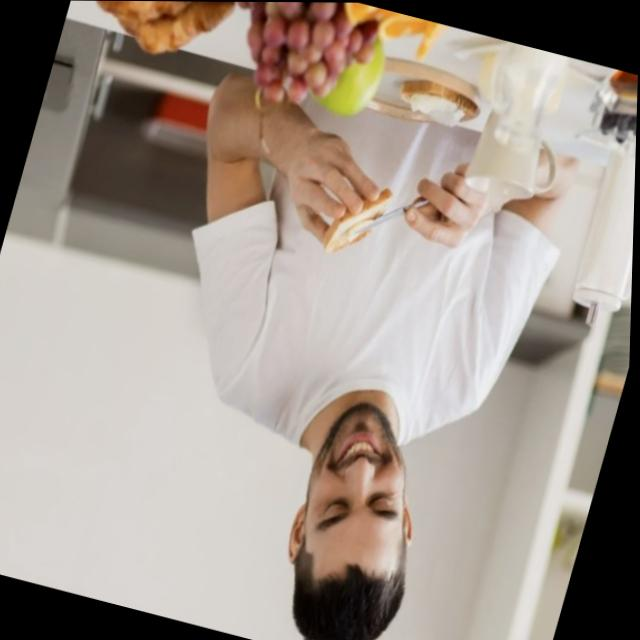eating-person: (68, 0, 640, 640)
